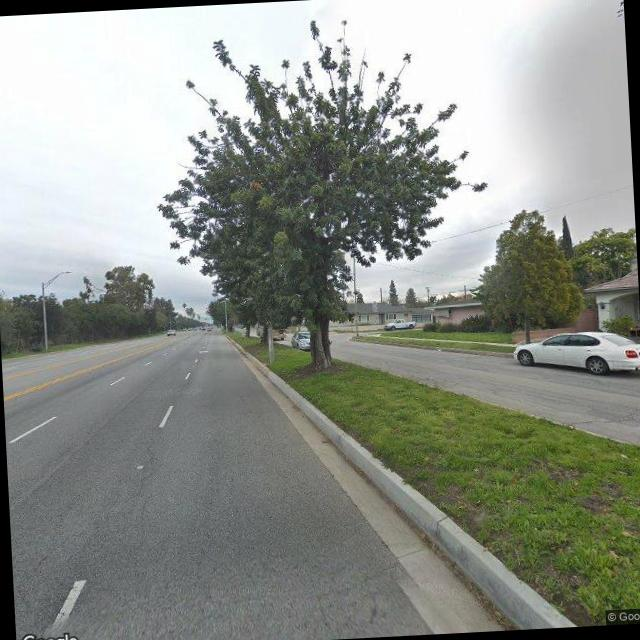pothole: (130, 445, 160, 516)
